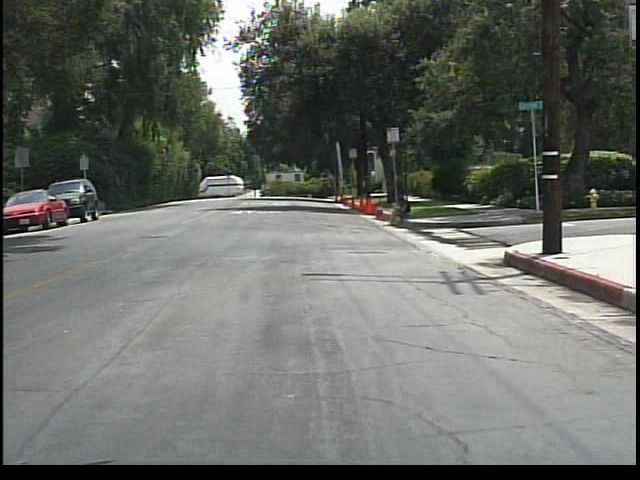person: (387, 191, 419, 232)
